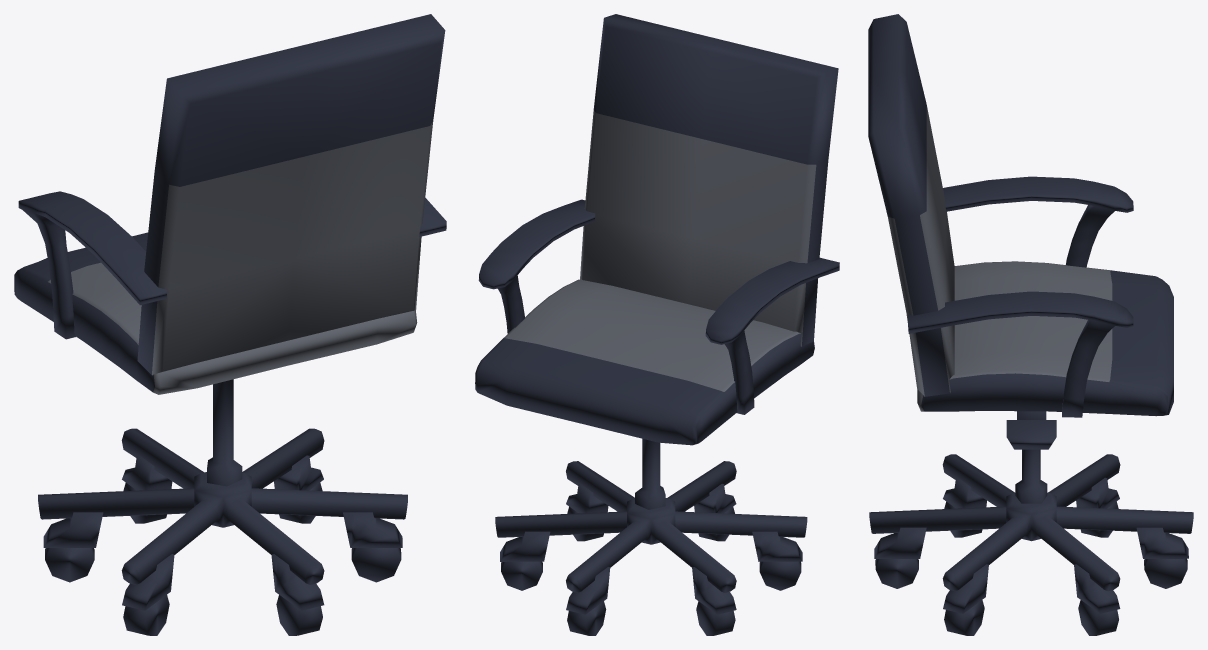
Rendered from chair3.glb.
3 views of the same model, side by side, from view 1: azimuth 30°, elevation 25°; view 2: azimuth 150°, elevation 25°; view 3: azimuth 270°, elevation 25° (orthographic). The views are drawn at different scales.
Visible parts, largest first — view 1: Chair; view 2: Chair; view 3: Chair.
Part boxes in pixels (bbox=[...]): Chair: bbox=[14, 14, 446, 635]; Chair: bbox=[475, 14, 839, 635]; Chair: bbox=[868, 14, 1193, 635].
Size of what is drawn, in the model's own units: 2.96 by 5.42 by 3.11.
1 material, 1 textured.
